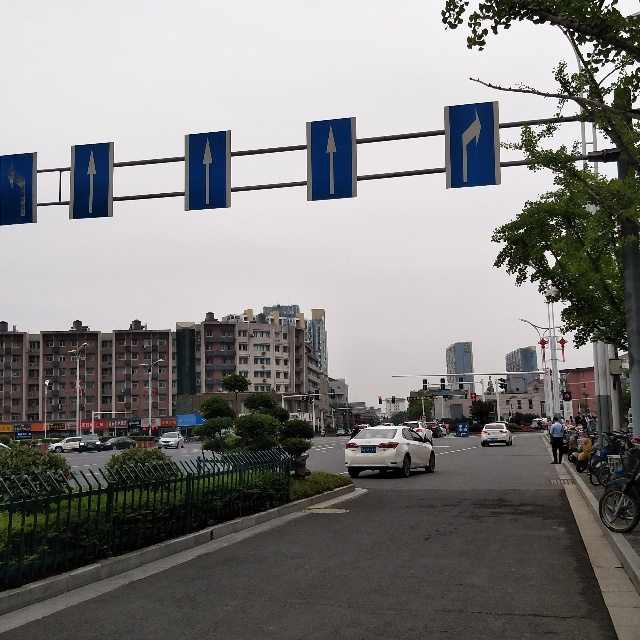left: (1, 156, 38, 227)
right: (449, 107, 495, 184)
straight: (313, 120, 357, 206), (71, 143, 114, 219), (190, 132, 228, 207)
